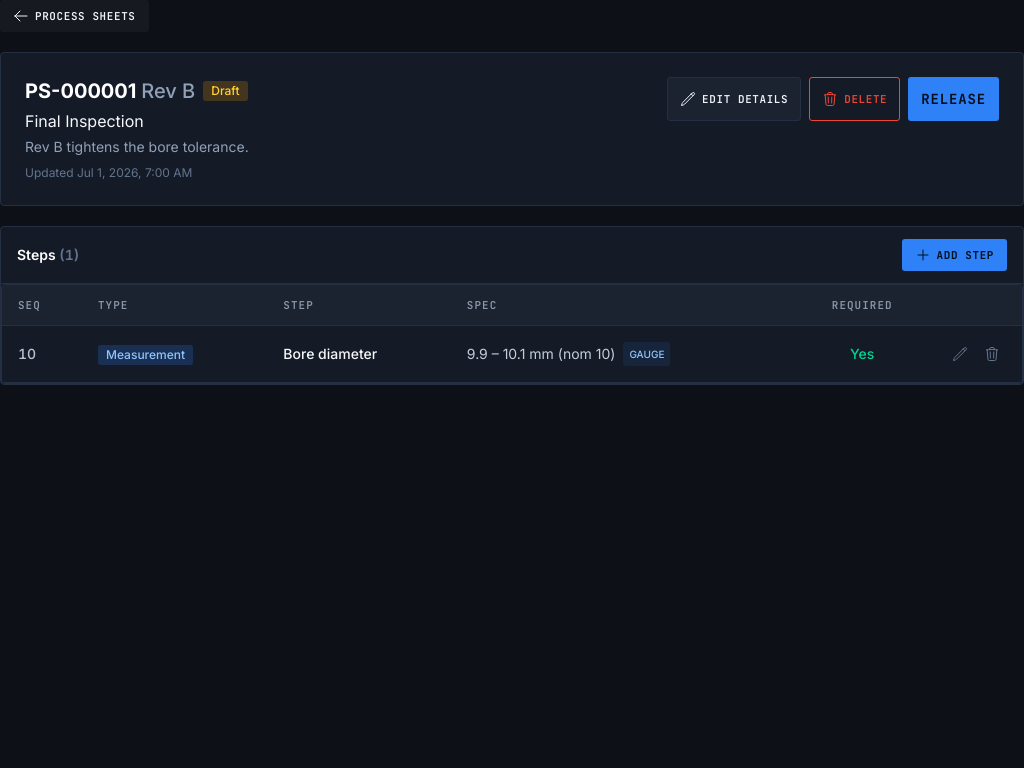
Test: ProcessSheets page › surfaces the server 409 detail via toast when a step write is refused
The width and height of the screenshot is (1024, 768).
Click the button "Add Step" at {"x": 954, "y": 255}, box [902,239,1007,271]
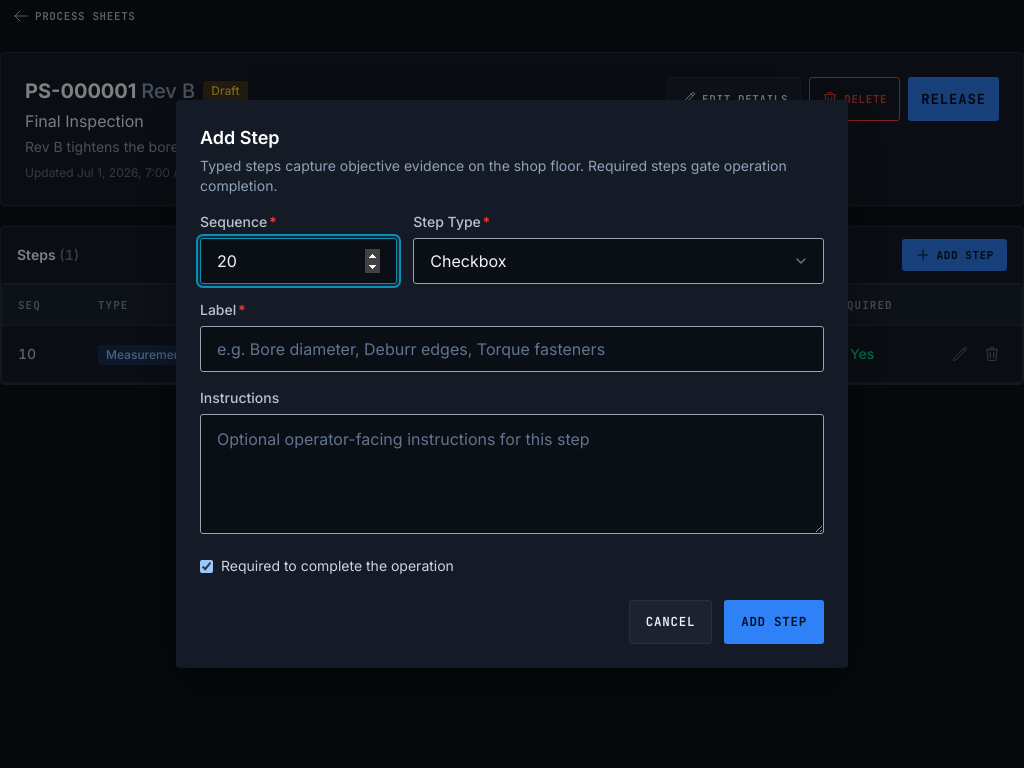
Type "Deburr" into the field labelled "Label*" at {"x": 512, "y": 349}, box [200,326,824,372]
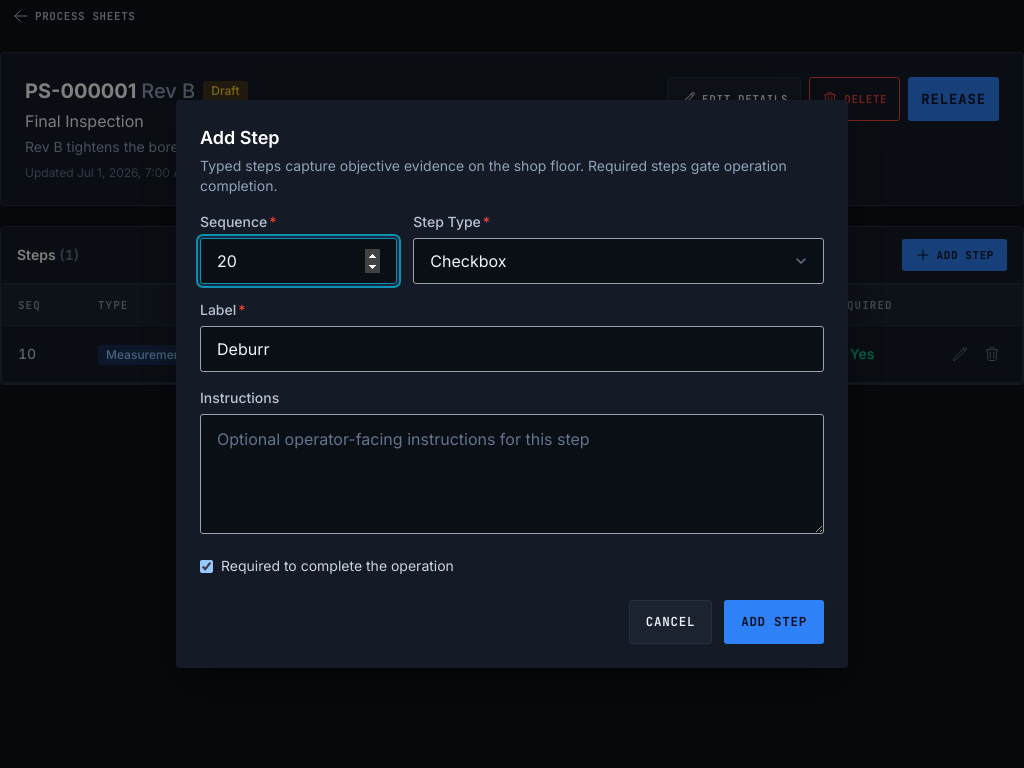
Click the button "Add Step" at {"x": 774, "y": 622}, box [724,600,824,644]
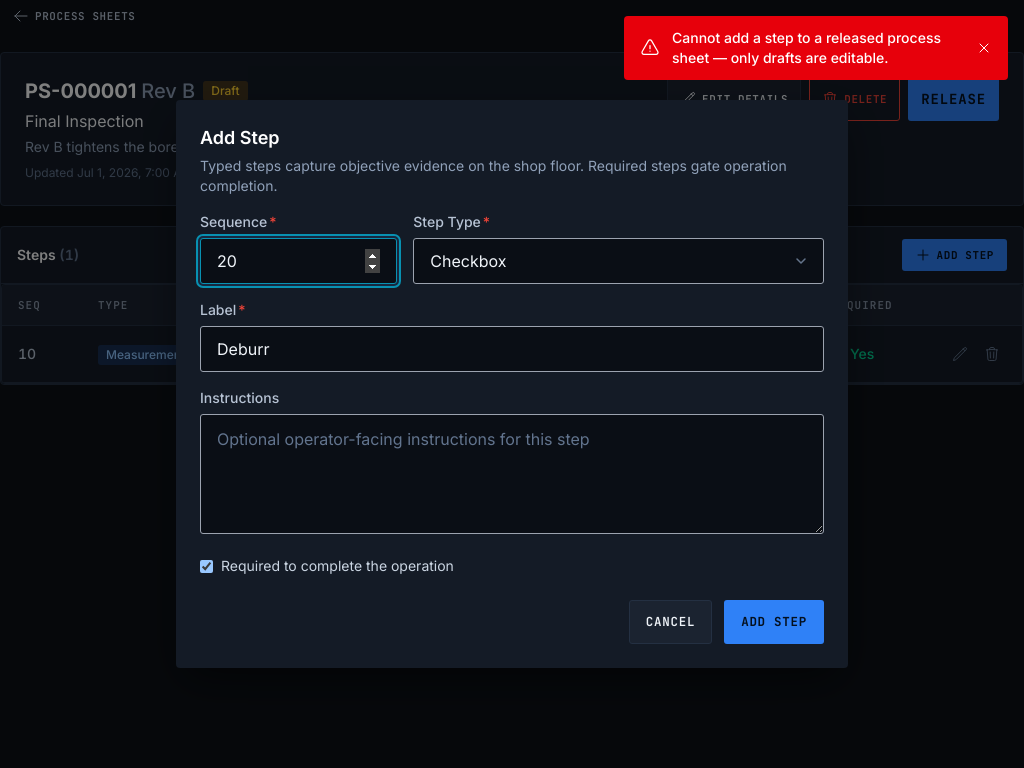
Now the text "Cannot add a step to a released process sheet — only drafts are editable." is shown, box [672,28,964,68]
